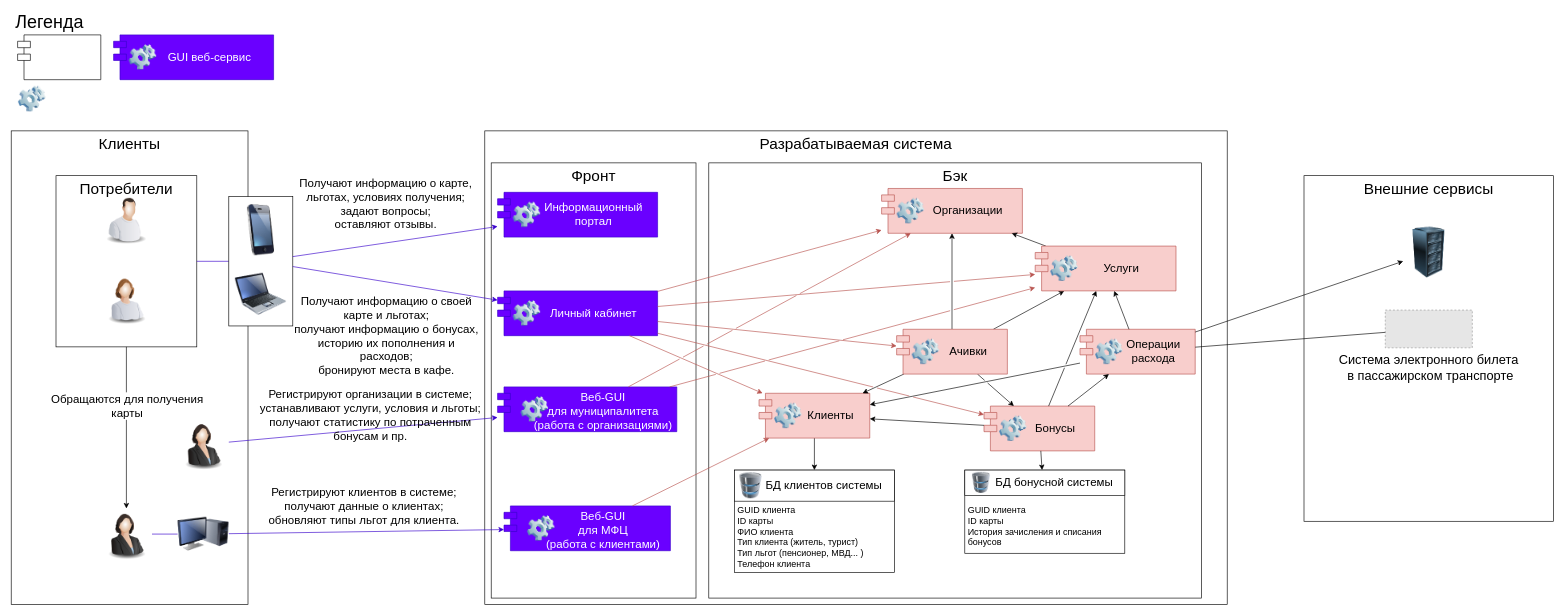
Image size: 1565x616. Some labels were removed from this diagram. Grey dashed boxes stand in for pictures. The shapes that lost their labels are listed below. From the top down, each one's centre as x and y in pixels, then its label:
At point (59, 57): "Компонент системы".
At point (31, 98): "Сервис".
At point (126, 218): "Житель города".
At point (1428, 252): "Сервисы платежной системы".
At point (126, 298): "Гости города".
At point (202, 444): "Муниципалитет".
At point (126, 533): "МФЦ".
